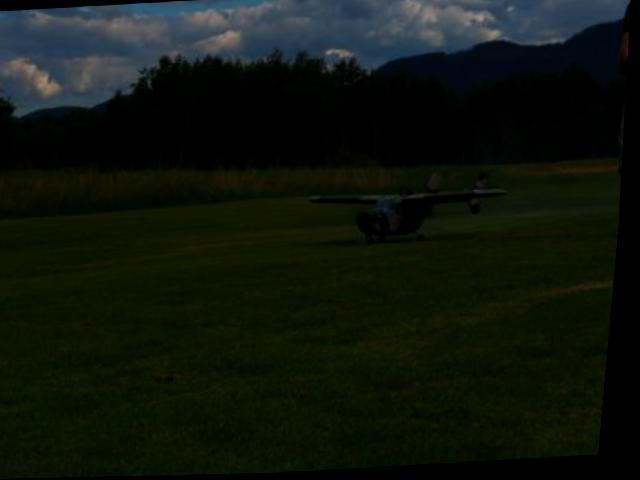uav: (305, 169, 518, 250)
